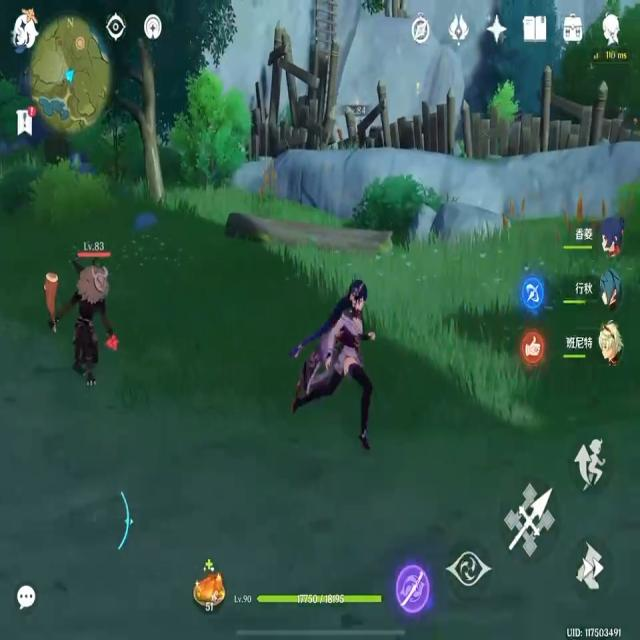genshin-hilichurls: (48, 264, 108, 388)
